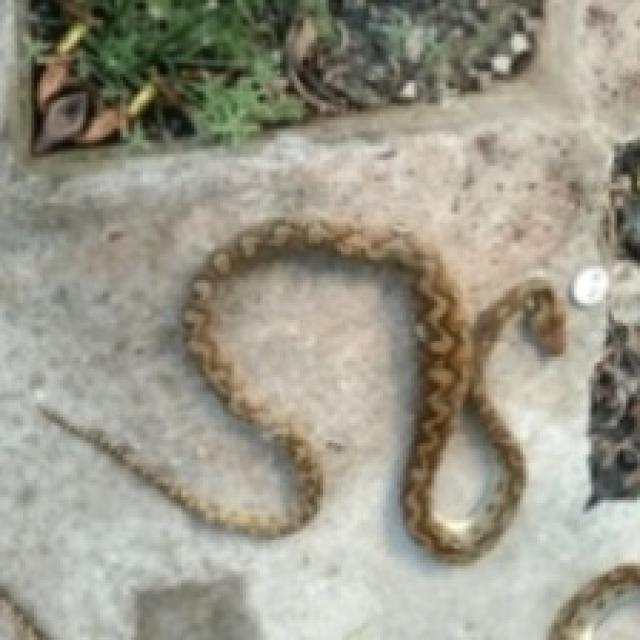reticulated python: (57, 217, 563, 560), (429, 406, 500, 520)
